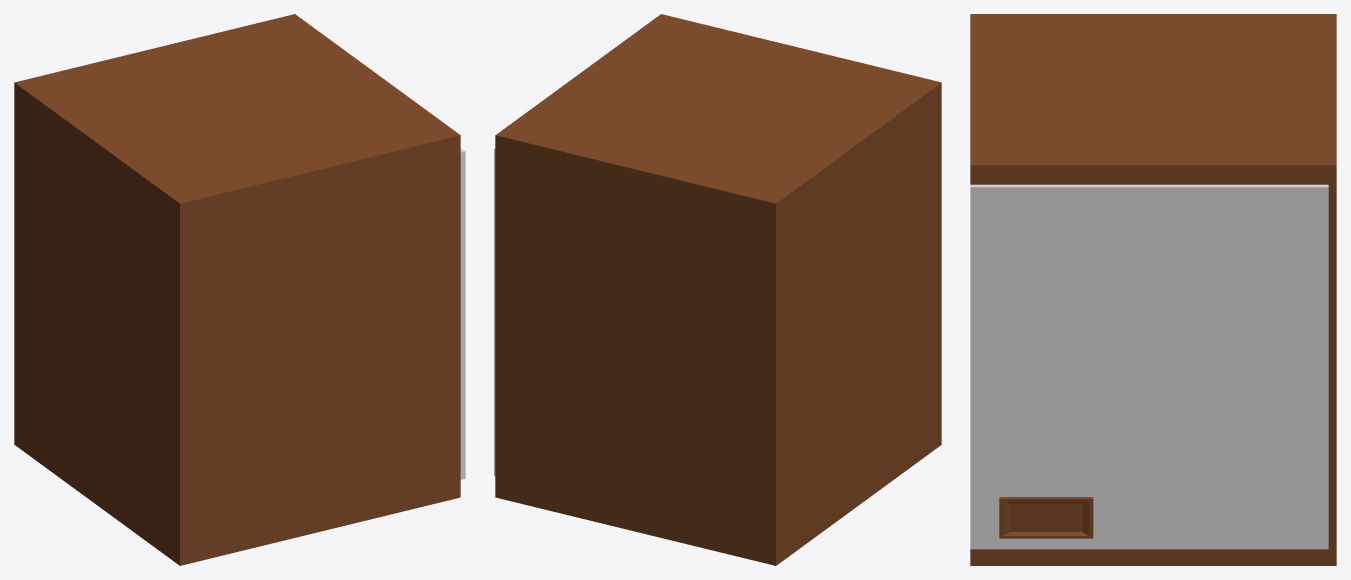
Rendered from SM_Cupboard_Left.fbx.
3 renders of one model, left to right at view 1: azimuth 30°, elevation 25°; view 2: azimuth 150°, elevation 25°; view 3: azimuth 270°, elevation 25°, orthographic. The views are drawn at different scales.
Visible parts, largest first — view 1: Cube.015; view 2: Cube.015; view 3: Cube.015, Cube.016.
Part boxes in pixels (<box>): Cube.015: <box>14,14,465,565</box>; Cube.015: <box>494,14,941,565</box>; Cube.015: <box>970,14,1336,565</box>; Cube.016: <box>999,497,1093,538</box>.
Bounding box in the file's own units: 815 × 976 × 809.
